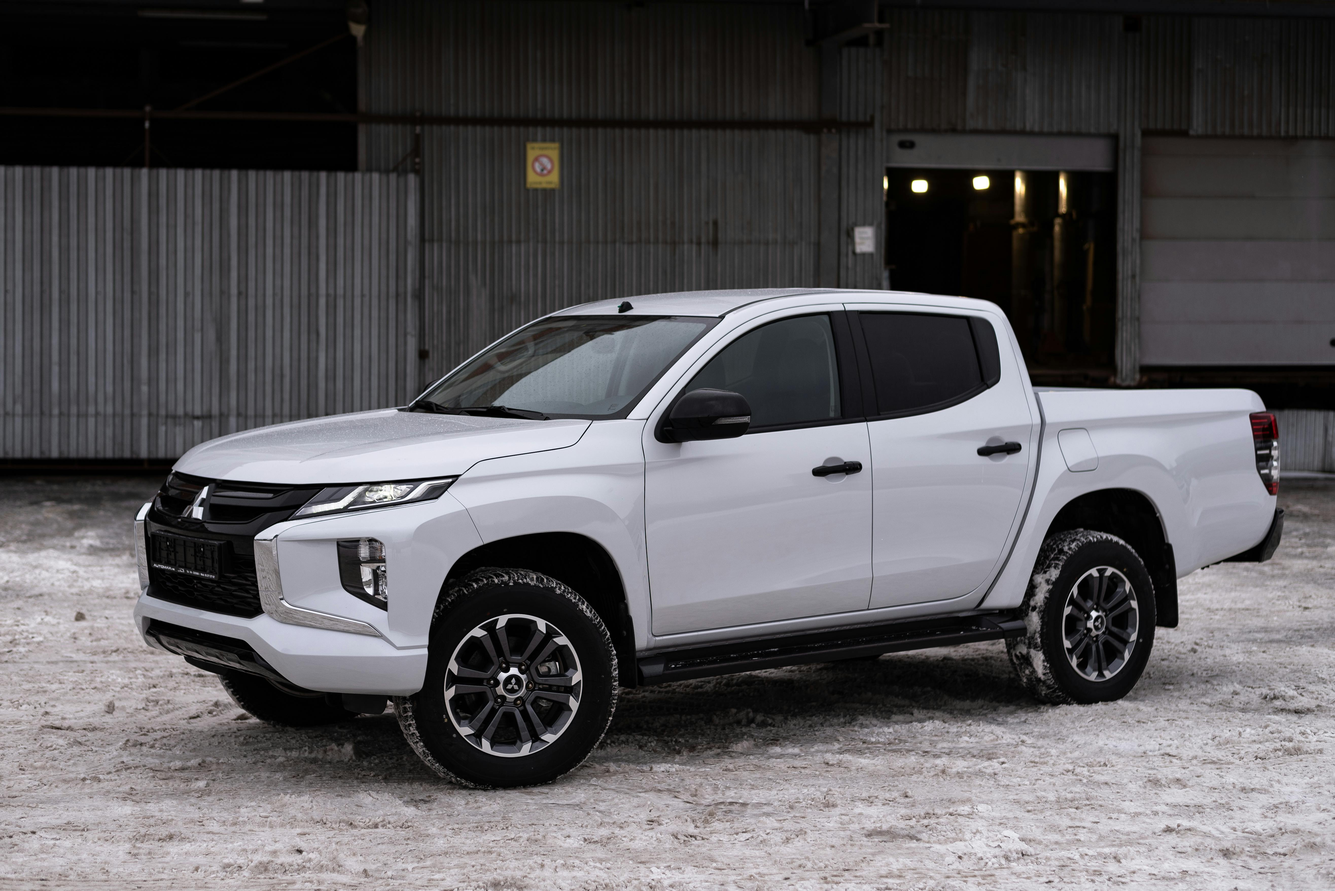other: (138, 288, 1285, 804)
